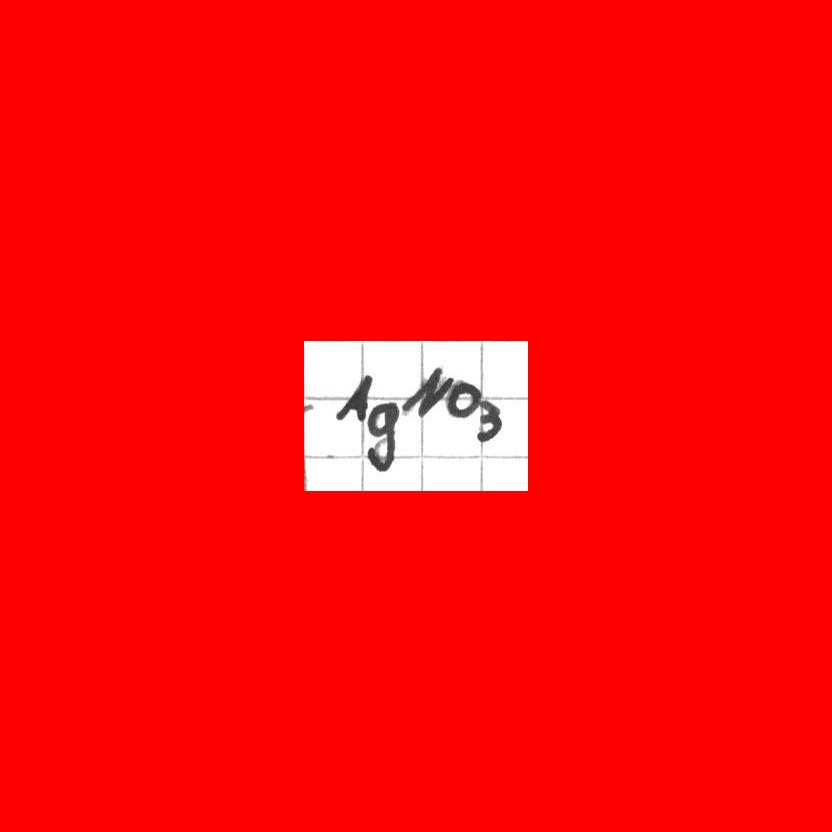Char: (399, 364, 453, 418), (364, 397, 401, 472), (333, 372, 371, 422), (473, 397, 511, 441), (445, 377, 486, 417)
